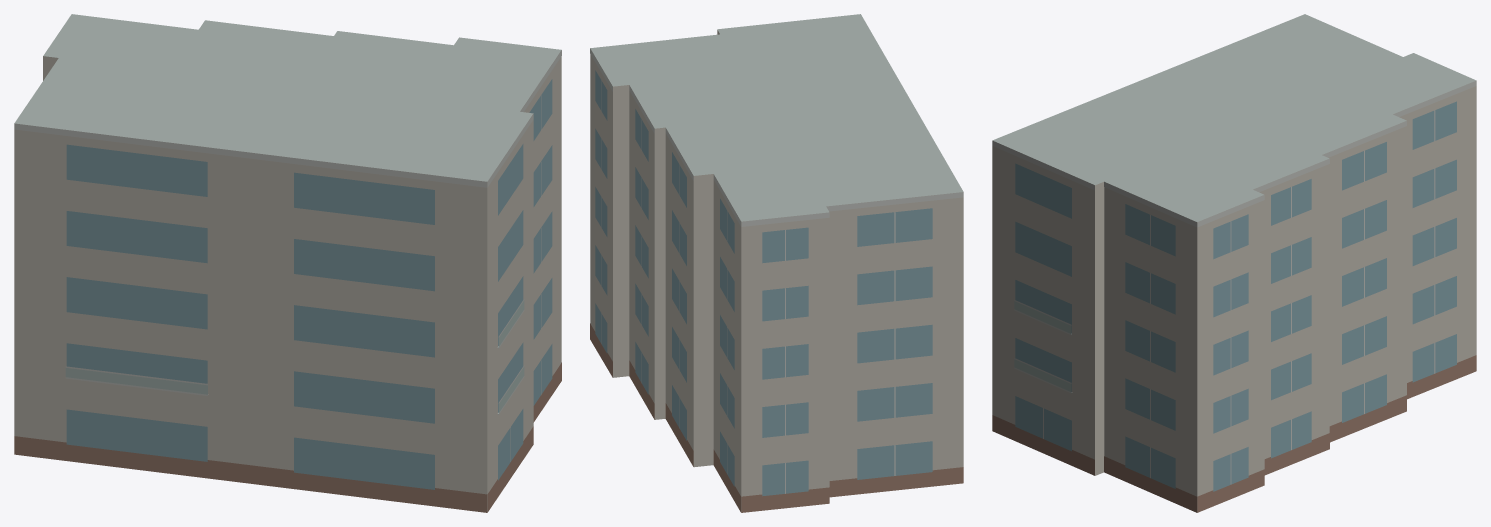
The model's file is survey-upis-32886746.glb.
3 renders of one model, left to right at view 1: azimuth 30°, elevation 25°; view 2: azimuth 150°, elevation 25°; view 3: azimuth 270°, elevation 25°, orthographic. The views are drawn at different scales.
Visible parts, largest first — view 1: survey-upis-32886746.tmp; view 2: survey-upis-32886746.tmp; view 3: survey-upis-32886746.tmp.
Boxes of the visible parts, x1=… form: survey-upis-32886746.tmp: x1=14, y1=14, x2=561, y2=512; survey-upis-32886746.tmp: x1=590, y1=14, x2=963, y2=512; survey-upis-32886746.tmp: x1=992, y1=14, x2=1476, y2=512.
Bounding box in the file's own units: 20.44 × 13.3 × 20.09.
